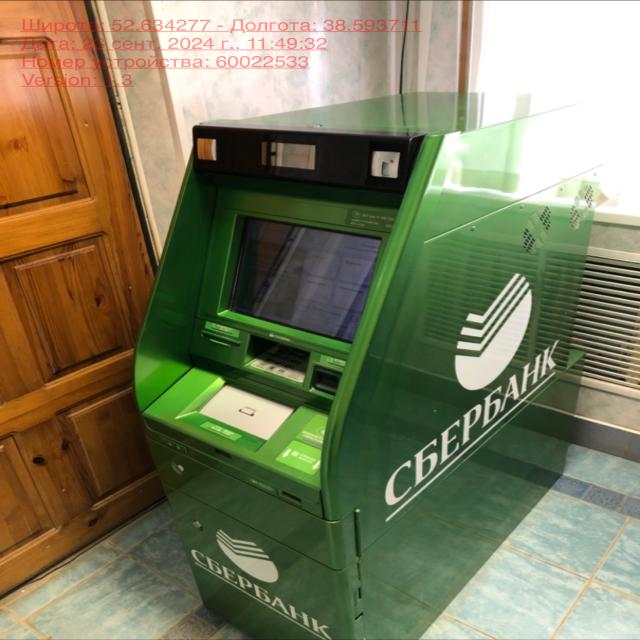bank: (125, 83, 586, 640)
